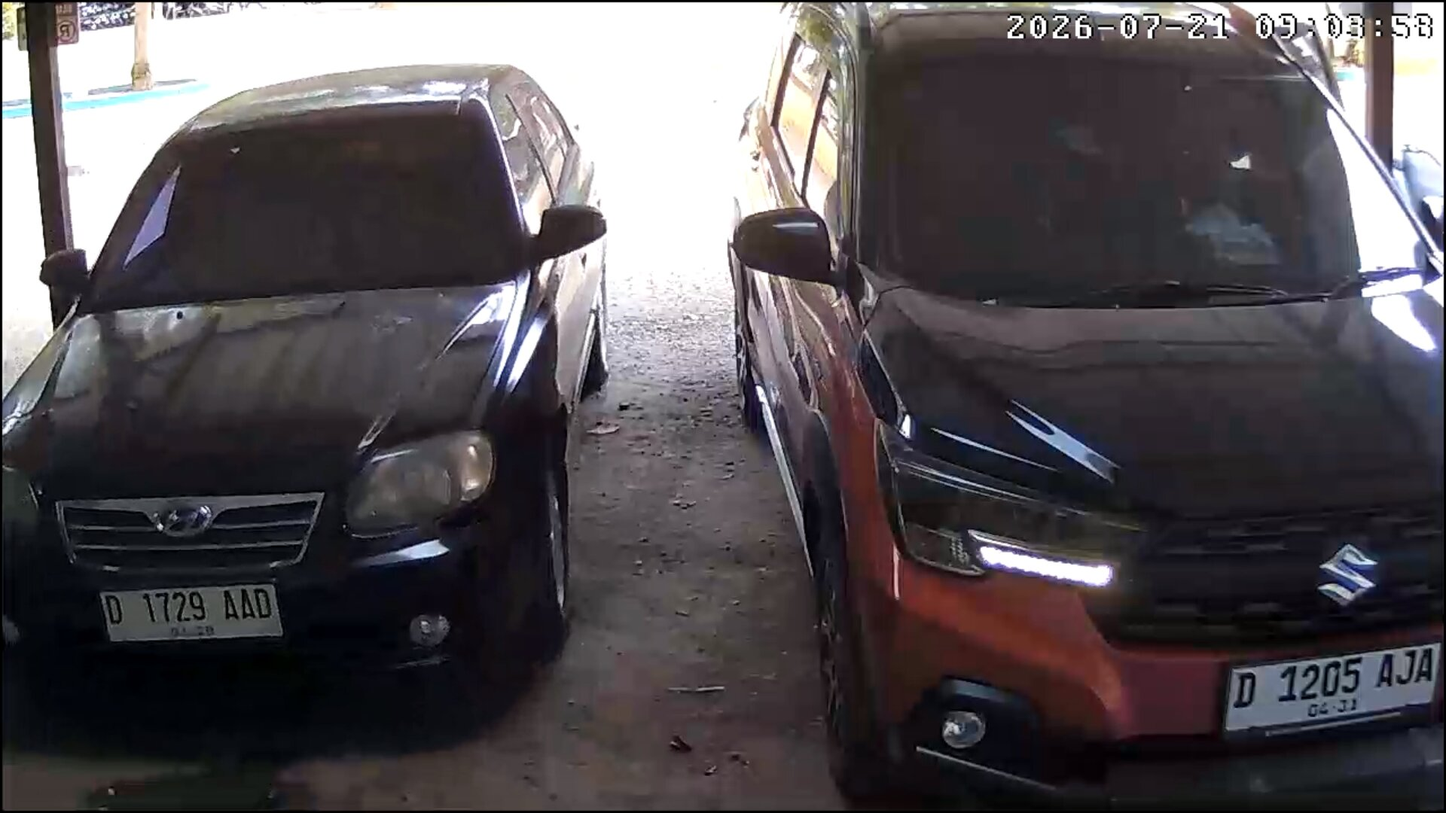plat nomor: (1224, 643, 1443, 737), (96, 580, 287, 646)
